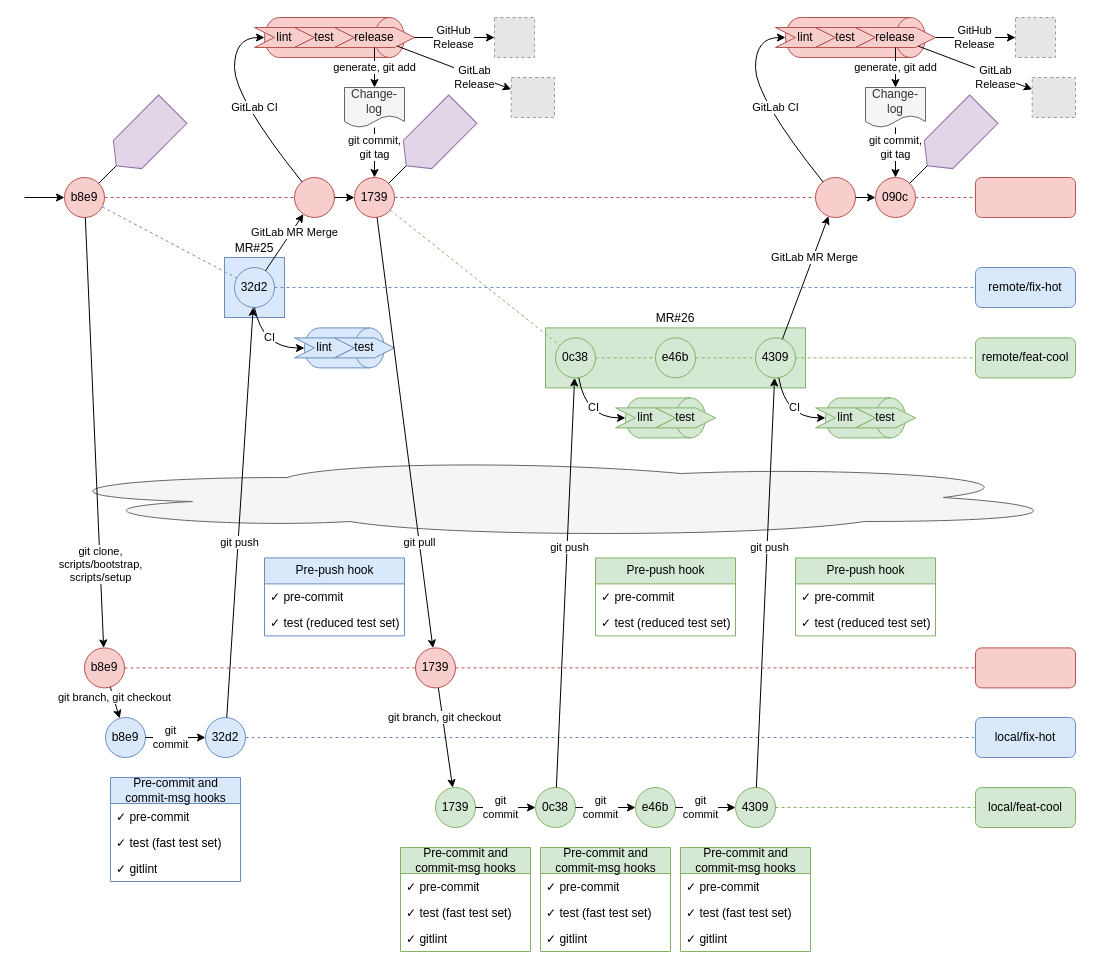
Image size: 1093x972. Some labels were removed from this diagram. Grey dashed boxes stand in for pictures. The centre of each missing label's shape, as x and y in pixels:
"2d5e" goes at (314,197).
"41e2" goes at (835,197).
"local/main" goes at (1025,667).
"remote/main" goes at (1025,197).
"v1.2.5" goes at (144,137).
"v1.2.6" goes at (434,137).
"v1.3.0" goes at (955,137).
